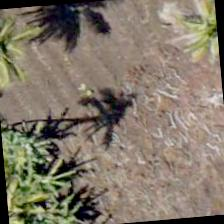Kelapa_Sawit: (162, 0, 221, 84)
